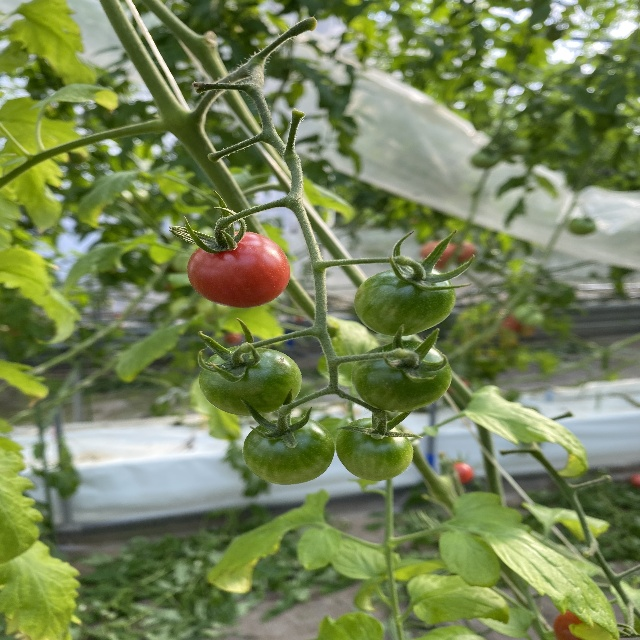l_fully_ripened: (187, 231, 292, 307)
l_green: (354, 266, 457, 337), (351, 341, 451, 412), (199, 347, 301, 416), (243, 416, 334, 485), (336, 417, 413, 482)
